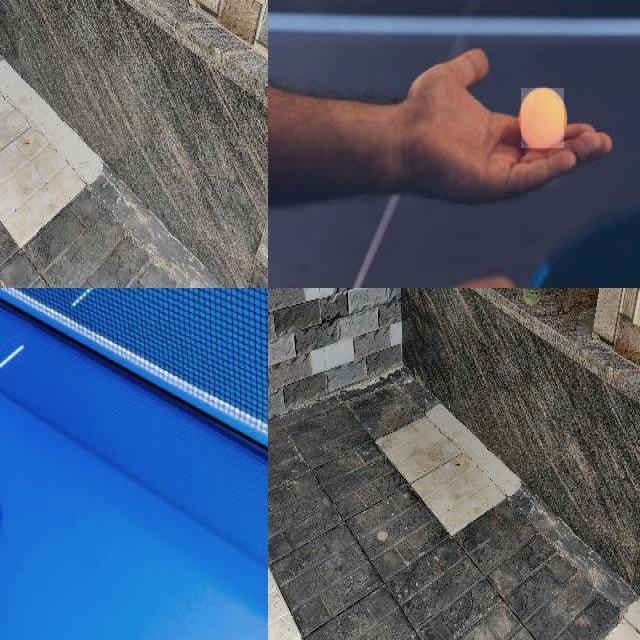ping-pong-ball: (521, 88, 565, 149)
